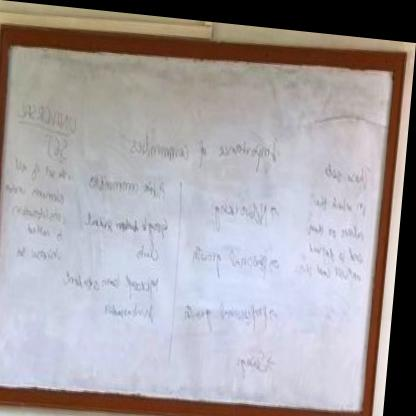Handwritten text: (129, 110, 286, 171), (81, 201, 177, 261), (186, 286, 277, 335), (64, 258, 168, 298), (192, 232, 275, 276), (88, 163, 177, 202), (208, 184, 273, 235), (97, 294, 163, 331), (17, 98, 85, 133), (306, 233, 374, 264), (306, 207, 373, 236), (309, 182, 377, 210), (238, 334, 277, 381), (6, 180, 76, 205), (17, 235, 70, 268), (323, 148, 377, 180), (11, 157, 75, 184), (12, 199, 75, 222), (25, 219, 74, 242), (44, 131, 72, 162)
Whiteboard: (0, 38, 400, 412)
